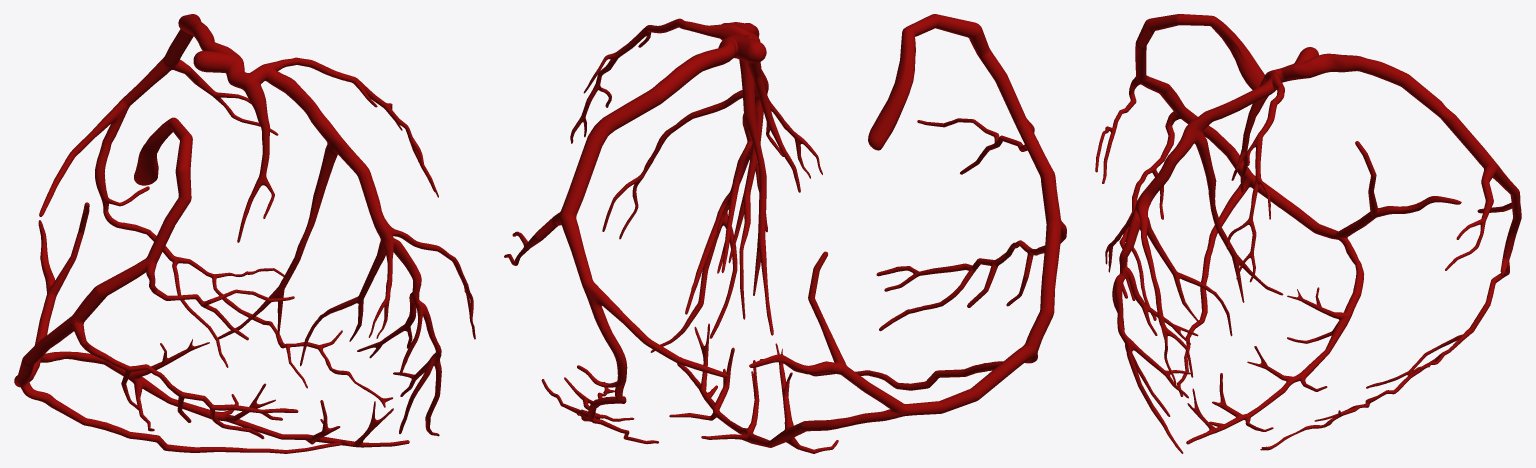
File: arteries.glb
3 renders of one model, left to right at view 1: azimuth 30°, elevation 25°; view 2: azimuth 150°, elevation 25°; view 3: azimuth 270°, elevation 25°, orthographic. The views are drawn at different scales.
Parts seen in each view (by area): view 1: Arteries2; view 2: Arteries2; view 3: Arteries2.
Part boxes in pixels (bbox=[...]): Arteries2: bbox=[14, 14, 475, 453]; Arteries2: bbox=[504, 14, 1066, 453]; Arteries2: bbox=[1095, 14, 1521, 453].
Size of the model in its own units: 2.35 by 2.03 by 2.26.
